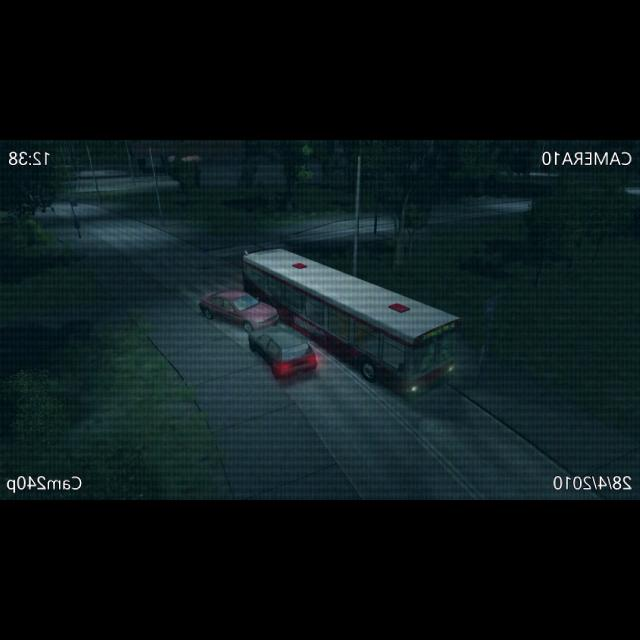accident: (200, 285, 319, 381)
